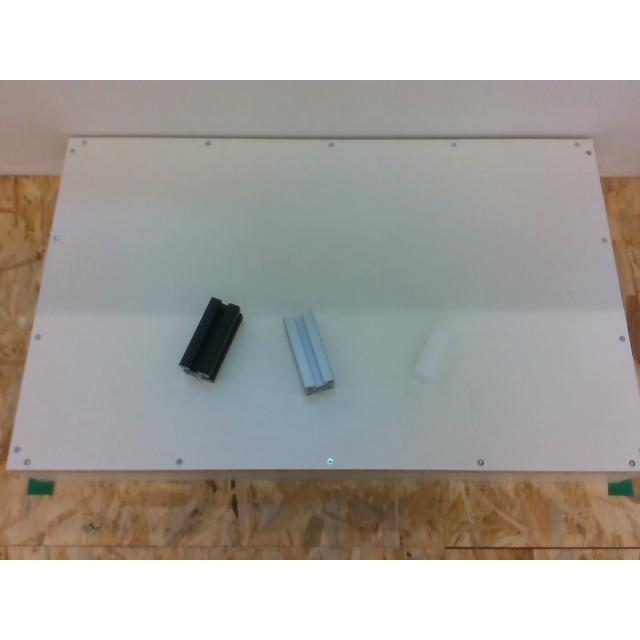S40_40_B: (178, 297, 242, 381)
S40_40_G: (283, 311, 333, 394)
Spacer: (412, 322, 460, 382)
